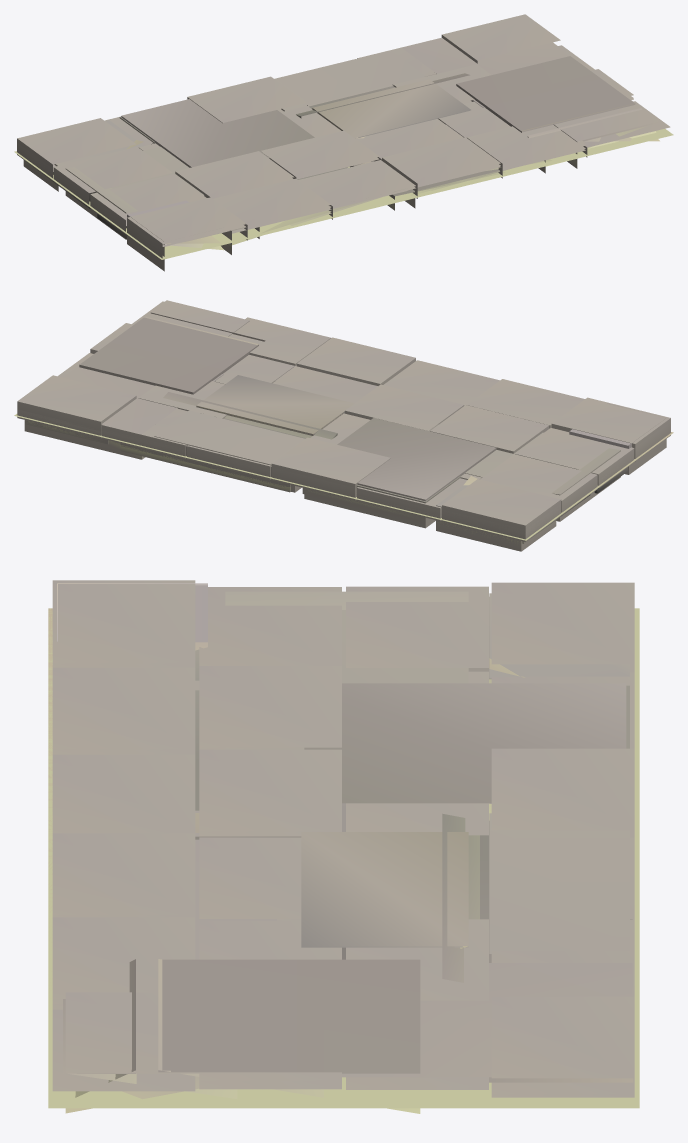
Rendered from tile.glb.
3 views of the same model, one above another, from view 1: azimuth 30°, elevation 25°; view 2: azimuth 150°, elevation 25°; view 3: azimuth 270°, elevation 25° (orthographic). The views are drawn at different scales.
Parts seen in each view (by area): view 1: TileC_0, TileC_3, TileA_0, TileB_2, TileB_1, TileA_1, TileB_0, TileC_1, TileC_2, TileA_2, TileA_3; view 2: TileC_0, TileA_0, TileC_3, TileB_2, TileC_1, TileB_1, TileA_1, TileC_2, TileA_2, TileB_0, TileB_3, TileA_3; view 3: TileC_0, TileA_0, TileC_3, TileB_2, TileB_1, TileA_1, TileC_1, TileC_2, TileB_0, TileB_3.
Part boxes in pixels (x1,y1,x2,y2): TileC_0: [17, 59, 670, 260]; TileC_3: [17, 38, 633, 259]; TileA_0: [54, 38, 659, 261]; TileB_2: [97, 56, 656, 247]; TileB_1: [89, 85, 511, 199]; TileA_1: [54, 79, 577, 263]; TileB_0: [14, 74, 673, 259]; TileC_1: [17, 42, 585, 237]; TileC_2: [18, 14, 633, 260]; TileA_2: [23, 108, 658, 271]; TileA_3: [23, 77, 659, 266]; TileC_0: [17, 301, 670, 541]; TileA_0: [63, 300, 673, 541]; TileC_3: [102, 361, 670, 540]; TileB_2: [79, 312, 627, 501]; TileC_1: [17, 381, 634, 541]; TileB_1: [79, 362, 523, 541]; TileA_1: [196, 375, 652, 544]; TileC_2: [17, 353, 666, 540]; TileA_2: [24, 403, 666, 551]; TileB_0: [14, 345, 671, 542]; TileB_3: [25, 316, 590, 543]; TileA_3: [239, 324, 666, 546]; TileC_0: [52, 586, 634, 1097]; TileA_0: [48, 585, 639, 1108]; TileC_3: [52, 580, 634, 1089]; TileB_2: [75, 813, 479, 1097]; TileB_1: [304, 683, 626, 1073]; TileA_1: [68, 591, 629, 1098]; TileC_1: [52, 664, 634, 1094]; TileC_2: [52, 662, 634, 1086]; TileB_0: [48, 597, 639, 1108]; TileB_3: [158, 679, 491, 1113].
Size of the model in its own units: 2 by 0.1106 by 1.
